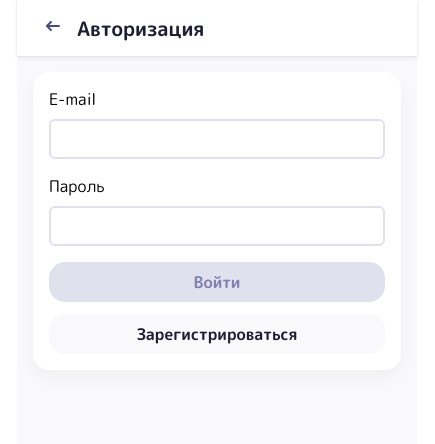
it: LogIn › submit invalid form
Type "123@m" into the field labelled "E-mail" at (217, 139), box [49,119,385,159]
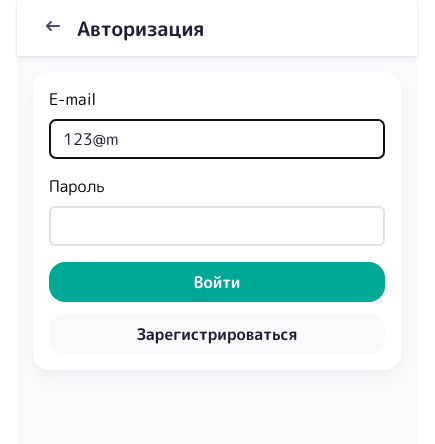
Click the button "Войти" at (217, 282), box [49,262,385,302]
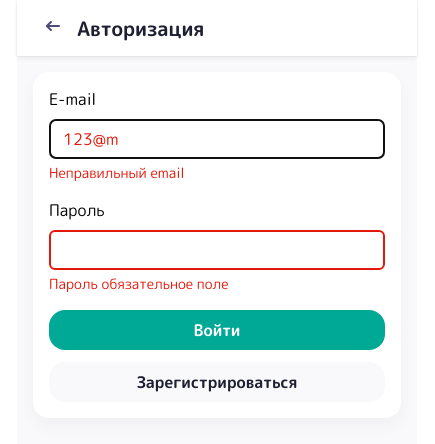
Expected: the text "Неправильный email" is shown, [49,163,185,182]
Expected: the text "Пароль обязательное поле" is shown, [49,274,228,293]
